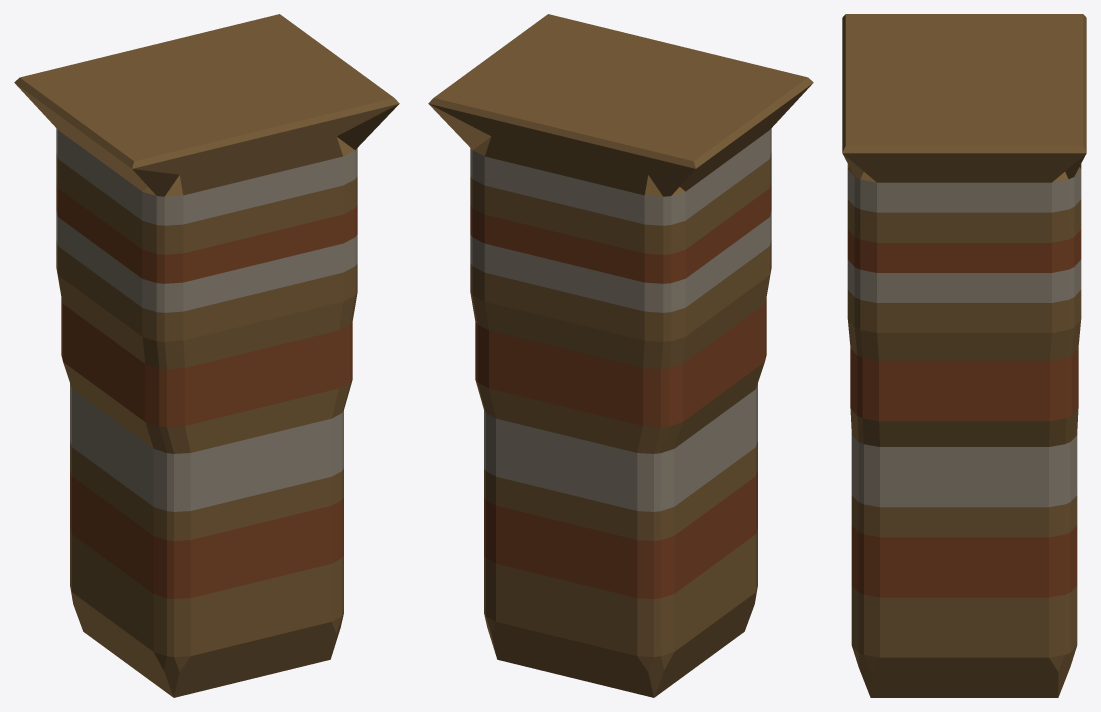
The model's file is basicPillar_big_top.fbx.
3 renders of one model, left to right at view 1: azimuth 30°, elevation 25°; view 2: azimuth 150°, elevation 25°; view 3: azimuth 270°, elevation 25°, orthographic. The views are drawn at different scales.
Visible parts, largest first — view 1: Cube.002; view 2: Cube.002; view 3: Cube.002.
Boxes of the visible parts, x1,y1,x2,y2 form: Cube.002: [14, 14, 399, 697]; Cube.002: [428, 14, 813, 697]; Cube.002: [842, 14, 1086, 697].
Size of the model in its own units: 284 by 567 by 217.
